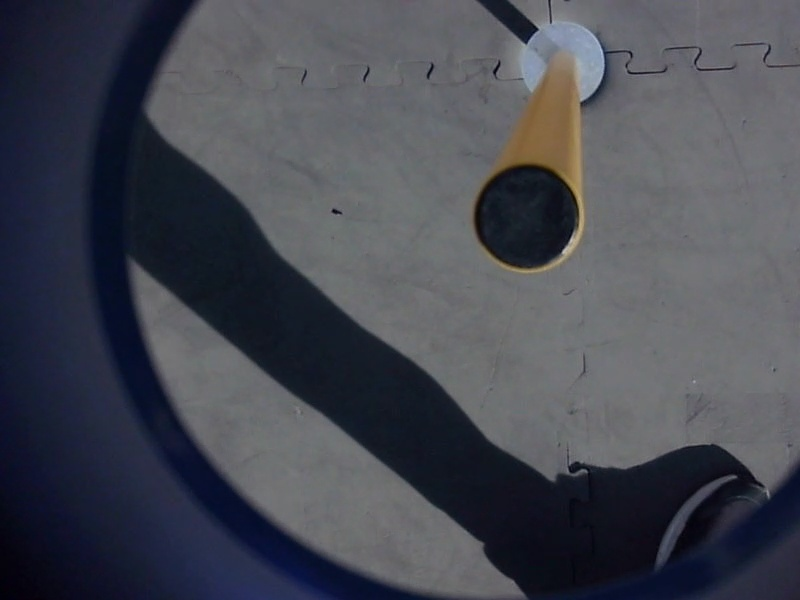tip: (465, 157, 590, 281)
